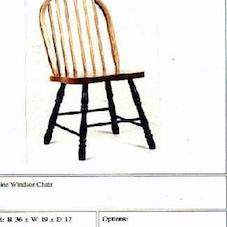chair: (25, 0, 170, 164)
